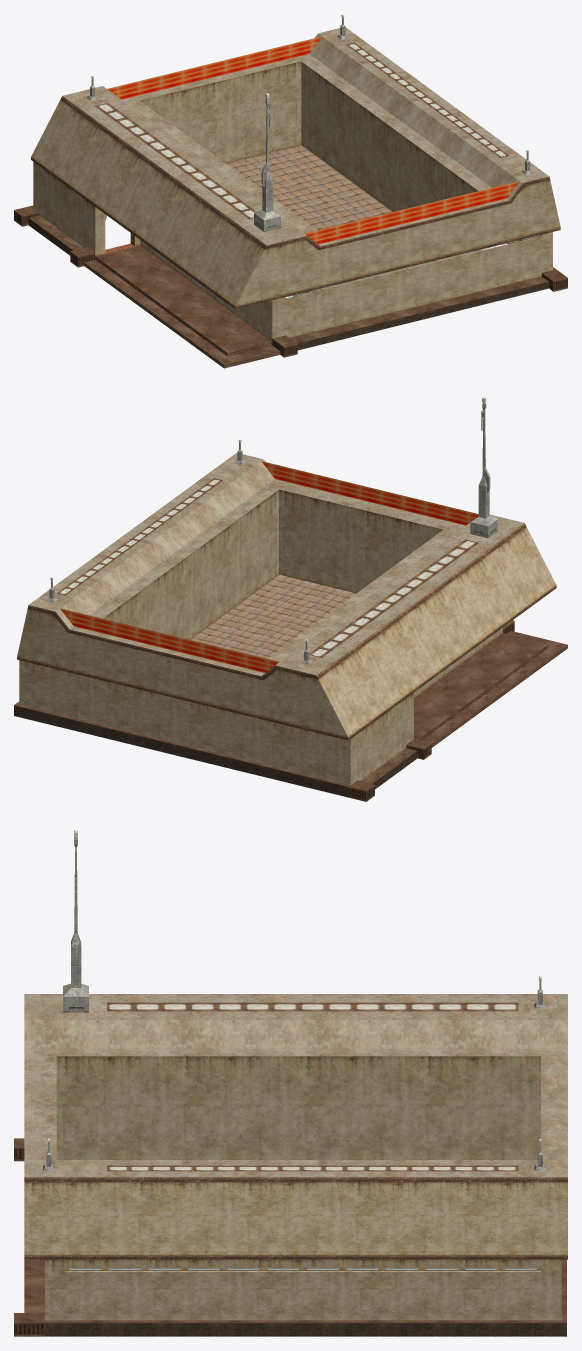
Rendered from mun_tato_shuttleport_s01_r0_mesh_l0.fbx.
The picture shows the model from 3 angles, top to bottom: view 1: azimuth 30°, elevation 25°; view 2: azimuth 150°, elevation 25°; view 3: azimuth 270°, elevation 25°; orthographic projection. The views are drawn at different scales.
Visible parts, largest first — view 1: mesh_node; view 2: mesh_node; view 3: mesh_node.
Boxes of the visible parts, x1,y1,x2,y2 form: mesh_node: (14,14,567,368); mesh_node: (14,397,567,801); mesh_node: (14,830,567,1336).
Size of the model in its own units: 30.85 by 20.88 by 32.16.
